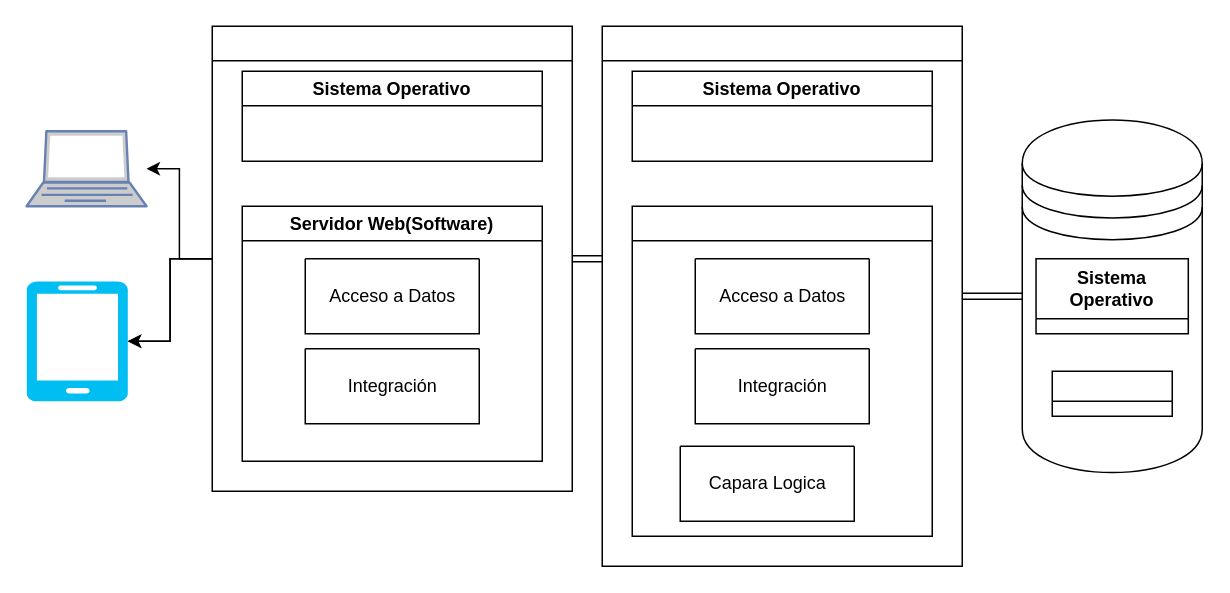
The diagram is 1230 pixels wide and 593 high, and some of its shapes have lost their labels. The shapes that lost their labels are listed below. From the top down, each one's box as (x1, y1, x2, y2) in pixels, then its label:
(211, 25, 572, 491): Servidor Web(Hardware)
(601, 25, 962, 566): Servidor Aplicaciones(Hardware)
(631, 205, 932, 536): Servidor Aplicaciones(Software)
(1051, 370, 1172, 416): MySQL
